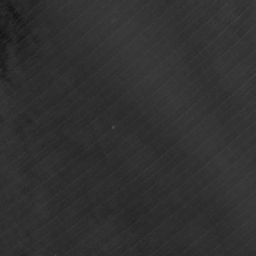Target: (110, 124, 116, 130)
